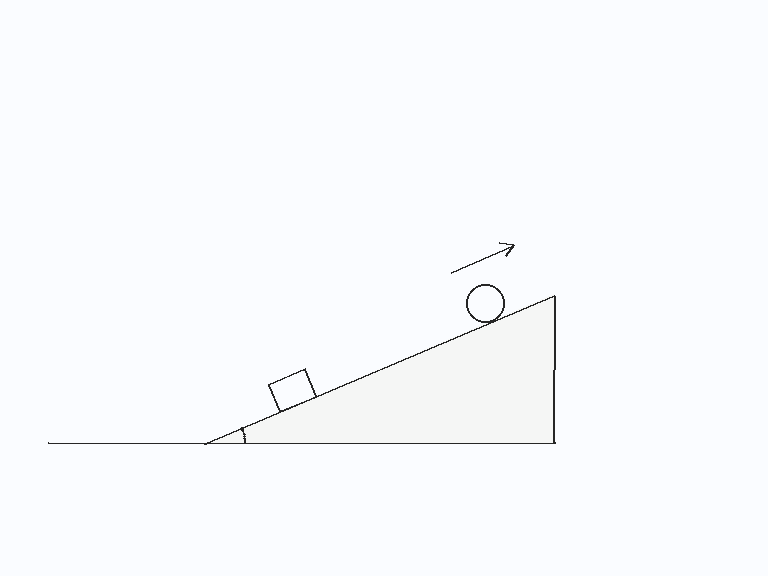ball: (464, 282, 506, 324)
block: (266, 367, 318, 413)
ramp: (203, 293, 556, 445)
